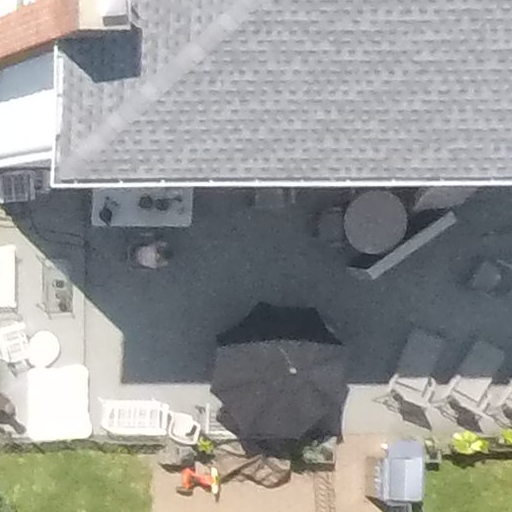container: (93, 197, 119, 230), (152, 195, 174, 218), (135, 193, 157, 213), (52, 275, 69, 290)
table: (341, 186, 412, 255)
toy: (171, 460, 225, 501)
umbrella: (199, 283, 362, 472)
